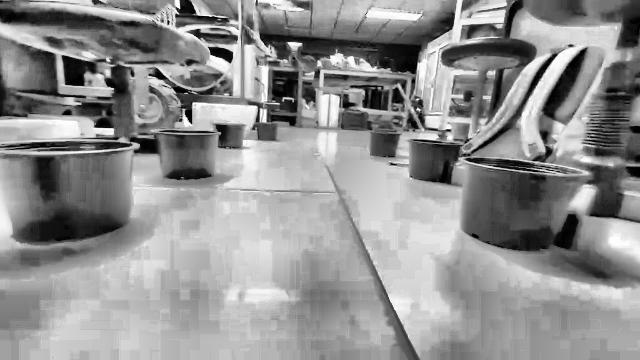pot: (0, 138, 138, 242), (461, 156, 588, 251), (152, 128, 220, 179), (408, 139, 462, 183), (369, 128, 401, 157), (212, 123, 245, 148), (256, 122, 278, 139)
